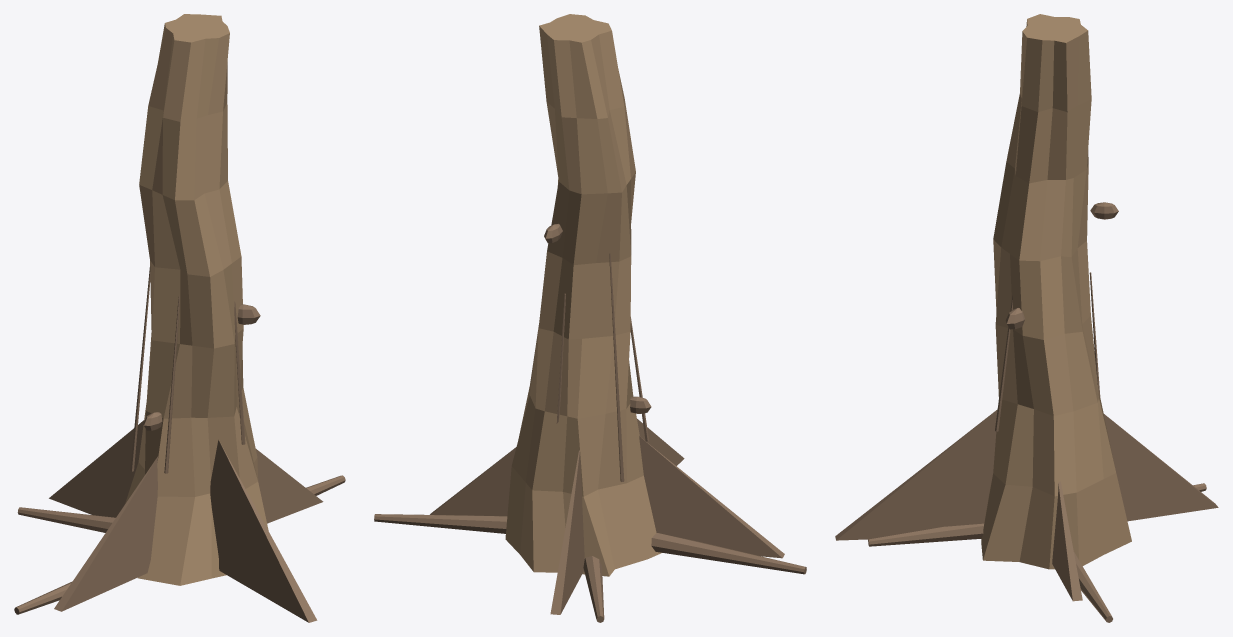
Rendered from myb_forest_trunk_ancient_a.fbx.
3 renders of one model, left to right at view 1: azimuth 30°, elevation 25°; view 2: azimuth 150°, elevation 25°; view 3: azimuth 270°, elevation 25°, orthographic.
Parts seen in each view (by area): view 1: myb_forest_trunk_ancient_a; view 2: myb_forest_trunk_ancient_a; view 3: myb_forest_trunk_ancient_a.
Boxes of the visible parts, box(x1,y1,x2,y2) form: myb_forest_trunk_ancient_a: box(14, 14, 345, 622); myb_forest_trunk_ancient_a: box(374, 14, 806, 622); myb_forest_trunk_ancient_a: box(835, 14, 1218, 622).
Bounding box in the file's own units: 2.61 × 3.4 × 2.31.
